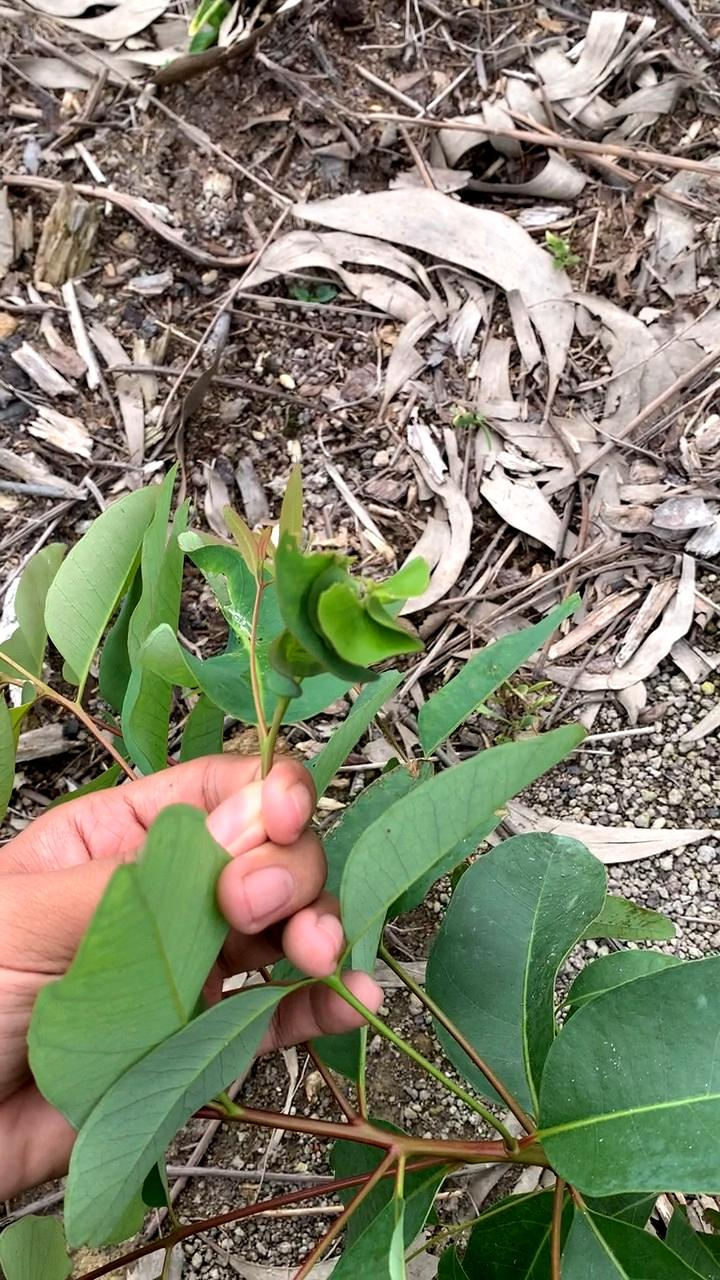Leaf Roller - Leaf: (286, 550, 447, 699)
